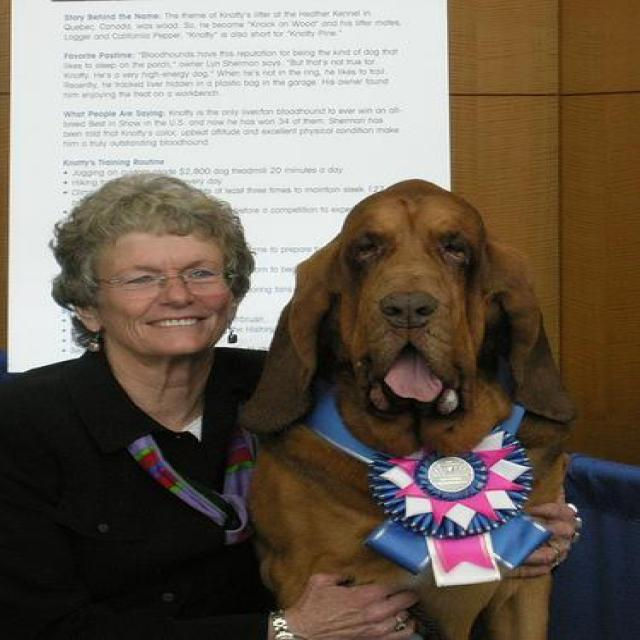bloodhound: (234, 177, 580, 638)
